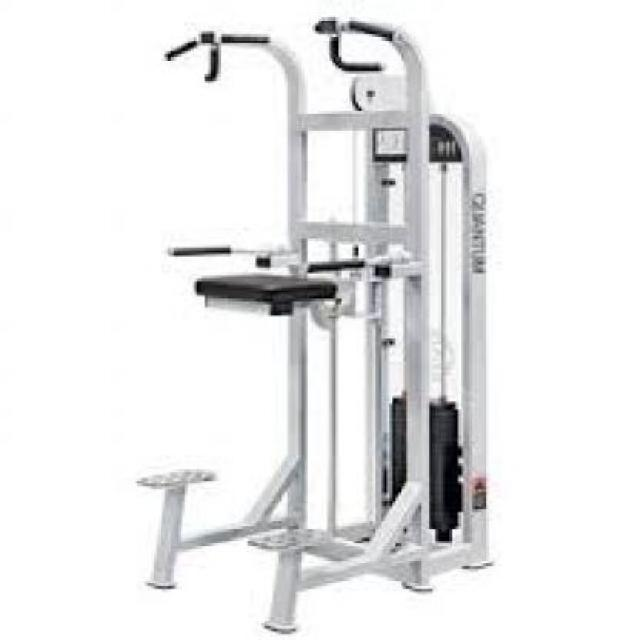chinning dipping: (138, 14, 494, 632)
